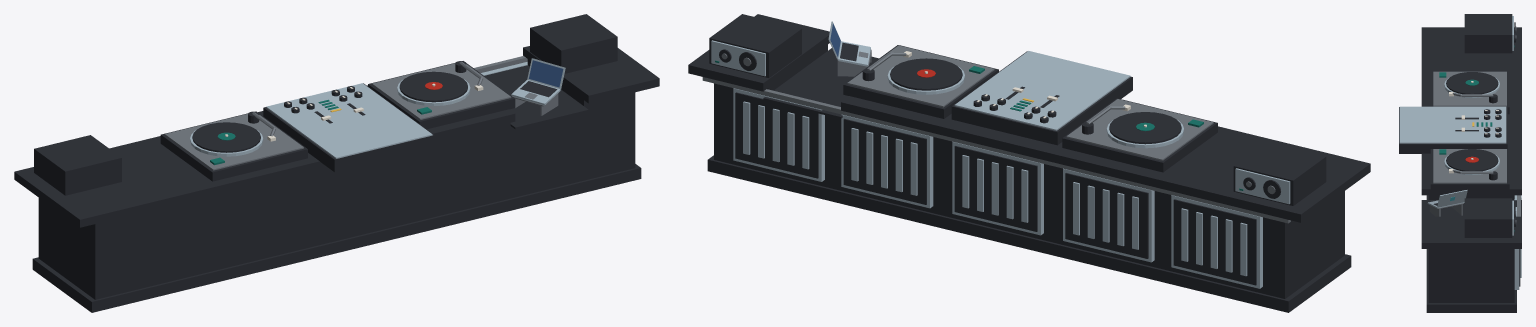
File: dj_desk.glb
3 views of the same model, side by side, from view 1: azimuth 30°, elevation 25°; view 2: azimuth 150°, elevation 25°; view 3: azimuth 270°, elevation 25° (orthographic). The views are drawn at different scales.
Visible parts, largest first — view 1: dj_desk_mesh; view 2: dj_desk_mesh; view 3: dj_desk_mesh.
Part boxes in pixels (bbox=[...]): dj_desk_mesh: bbox=[14, 14, 659, 312]; dj_desk_mesh: bbox=[688, 14, 1370, 312]; dj_desk_mesh: bbox=[1399, 14, 1521, 312].
Size of the model in its own units: 4.98 by 1.01 by 1.2.
Materials: 1 (1 with a texture image).
